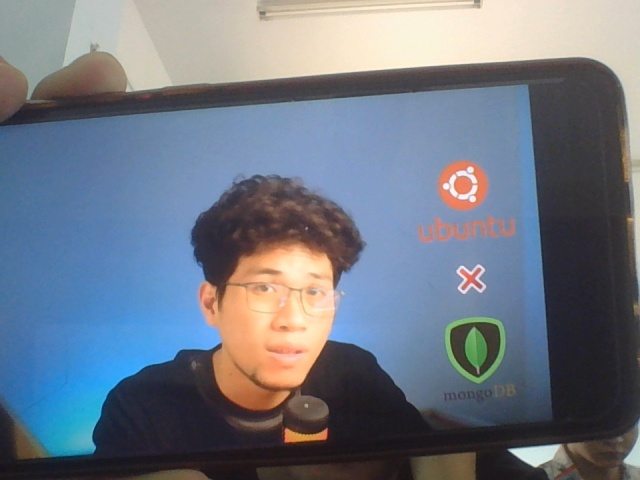fake: (197, 180, 351, 399)
